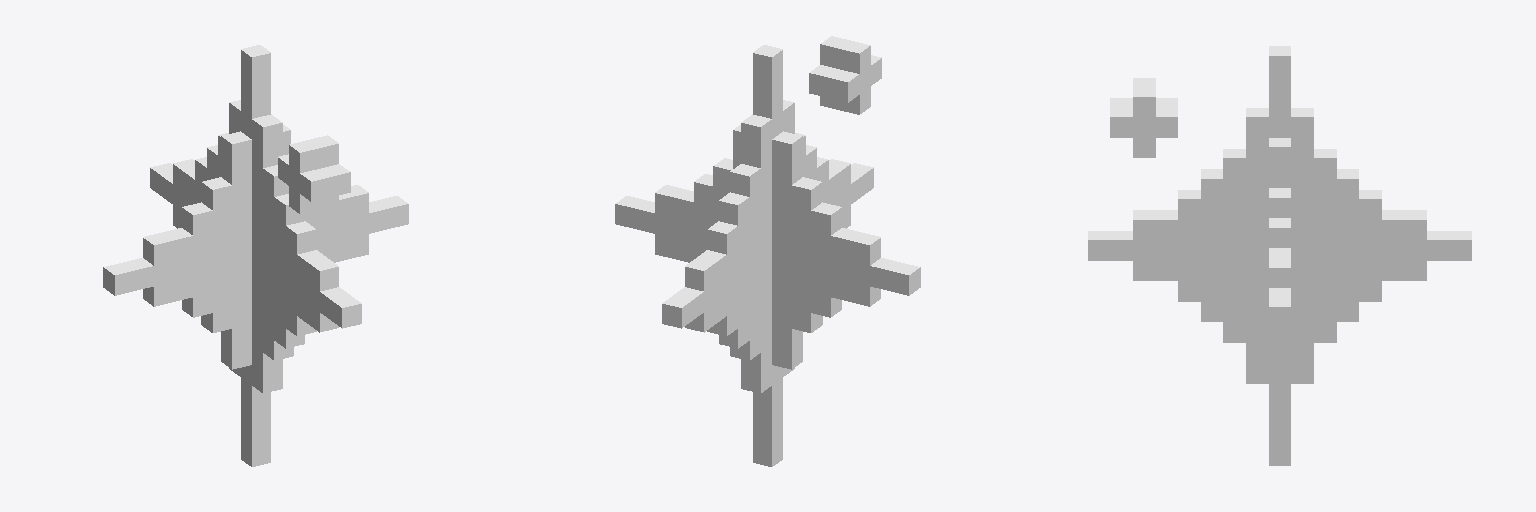
Rendered from EXP2.obj.
The picture shows the model from 3 angles: view 1: azimuth 30°, elevation 25°; view 2: azimuth 150°, elevation 25°; view 3: azimuth 270°, elevation 25°; orthographic projection.
Parts seen in each view (by area): view 1: object 1; view 2: object 1; view 3: object 1.
Boxes of the visible parts, <box> form: object 1: <box>103,45,408,466</box>; object 1: <box>615,36,920,466</box>; object 1: <box>1088,46,1471,465</box>.
Size of the model in its own units: 1.5 by 2 by 1.7.